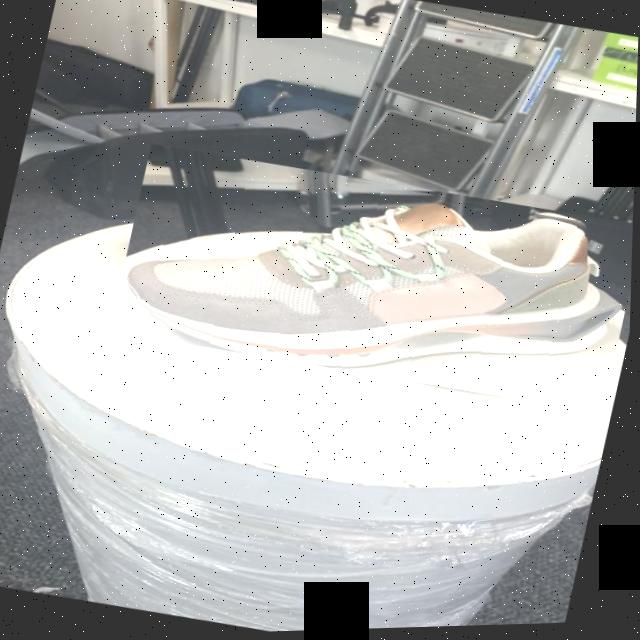shoe: (109, 133, 637, 428)
